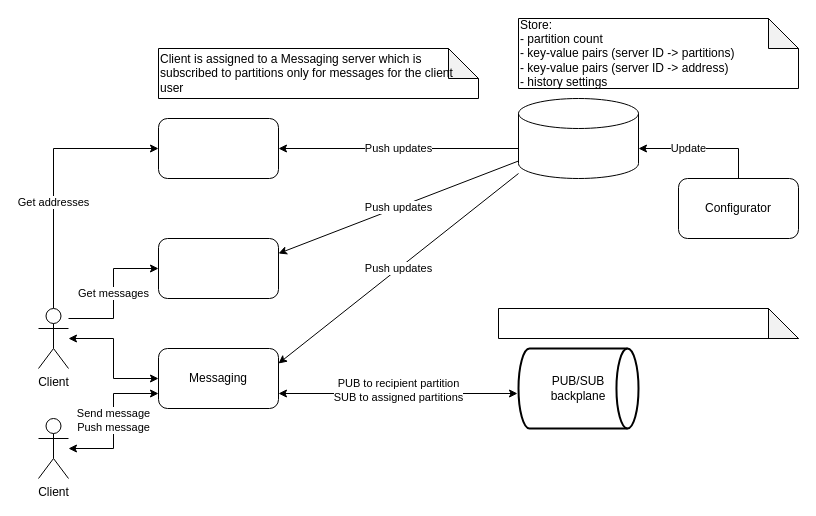
The diagram is 816 pixels wide and 516 high, and some of its shapes have lost their labels. Here are the shapes that lost their labels. From the top down, the centre of each, then its label:
At pixel 218 148: "Connect".
At pixel 578 138: "Configuration DB".
At pixel 218 268: "History".
At pixel 648 323: "Messages for user ID go into a dedicated partition".
